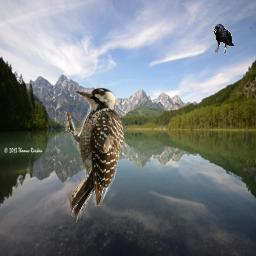Crow: (213, 24, 234, 53)
Woodpecker: (62, 84, 125, 224)
